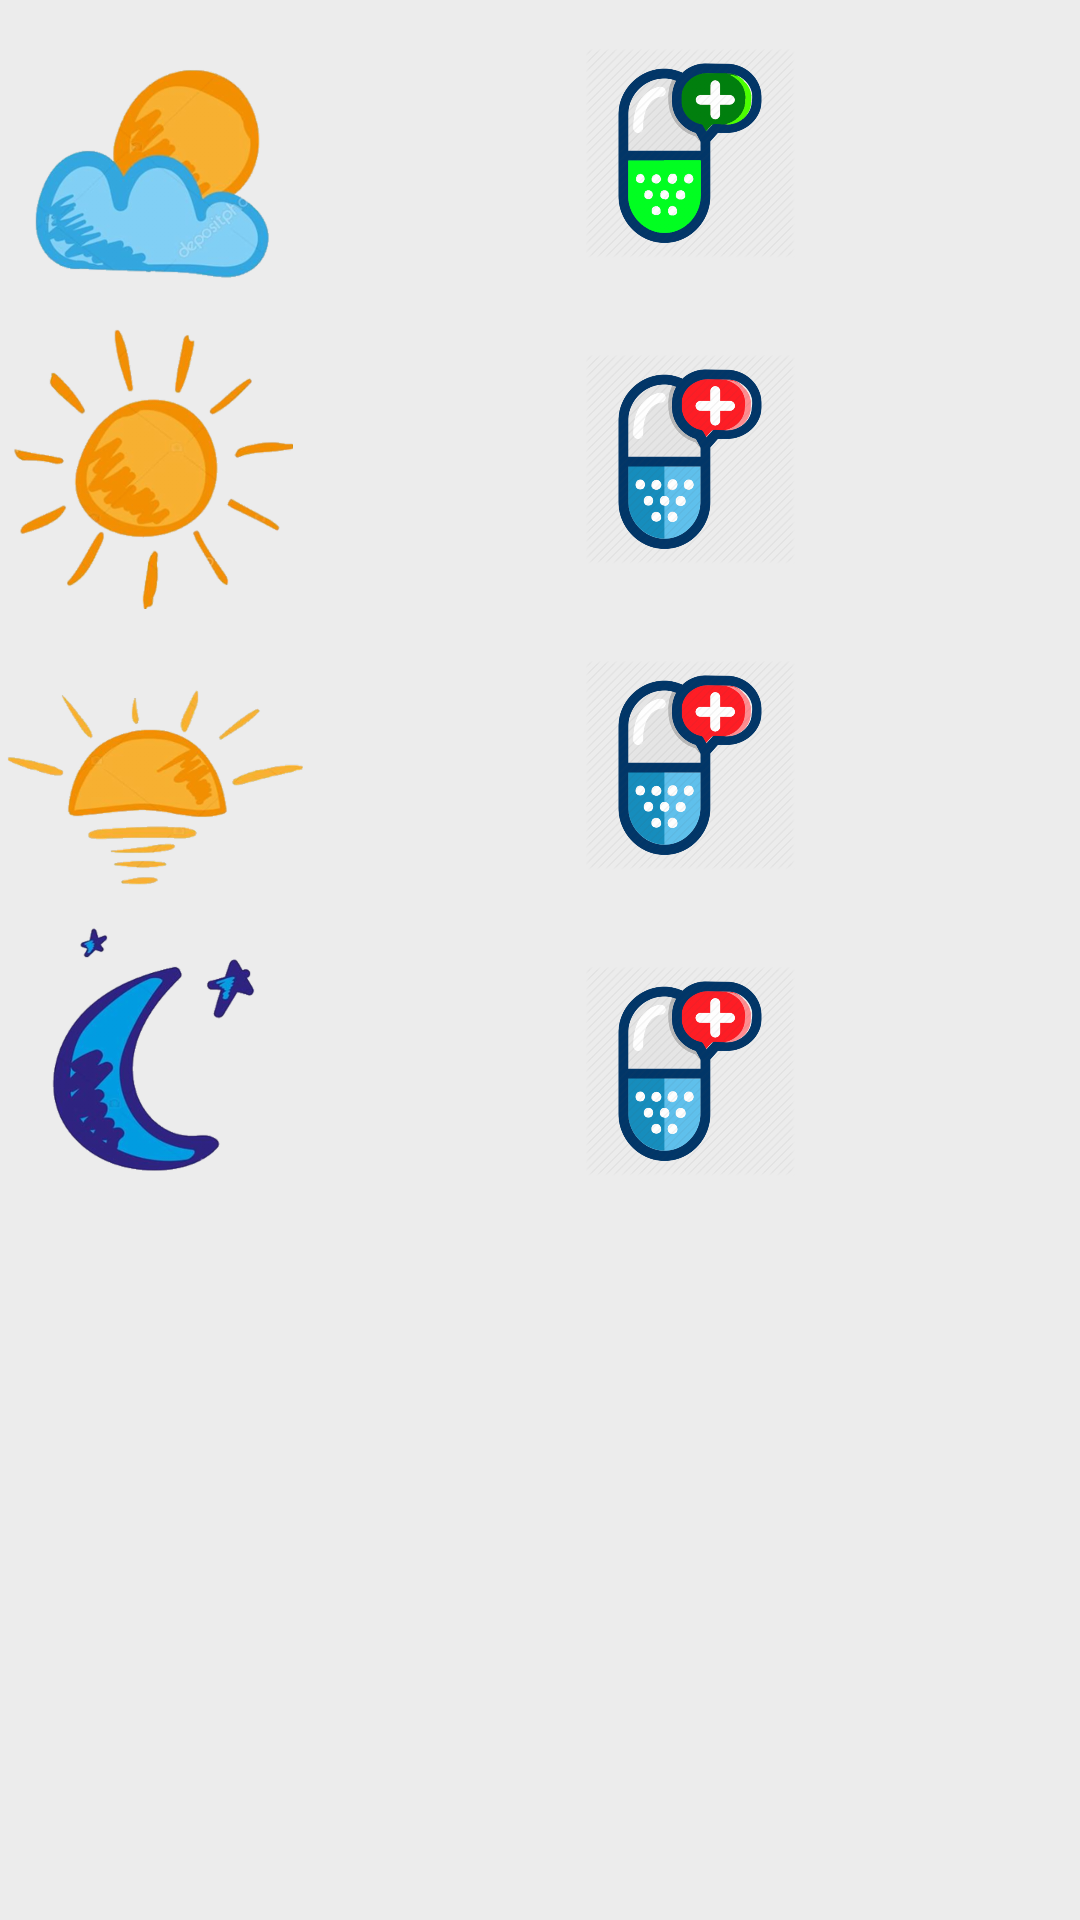

Point at icon controls on the screen. Image size 1080x1920, points as (x=x, y=y).
evening: (x=155, y=788)
morning: (x=152, y=174)
night: (x=153, y=1049)
noon: (x=153, y=469)
pills plus: (x=690, y=153), (x=690, y=459), (x=690, y=765), (x=690, y=1071)
